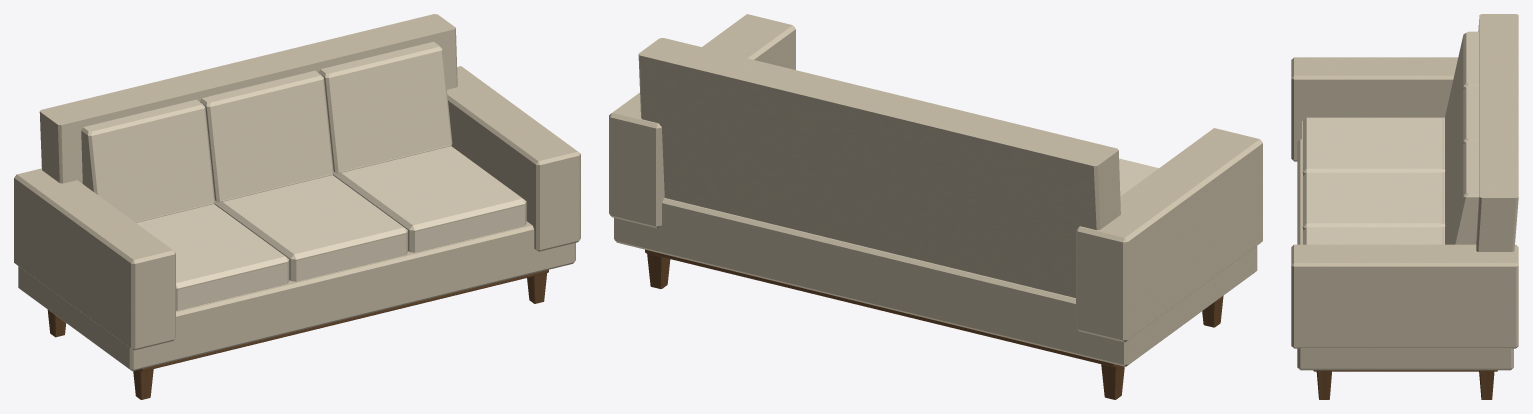
Rendered from sofa.glb.
3 renders of one model, left to right at view 1: azimuth 30°, elevation 25°; view 2: azimuth 150°, elevation 25°; view 3: azimuth 270°, elevation 25°, orthographic. The views are drawn at different scales.
Parts seen in each view (by area): view 1: home_sofa; view 2: home_sofa; view 3: home_sofa.
Boxes of the visible parts, x1,y1,x2,y2 form: home_sofa: (14, 14, 580, 399); home_sofa: (609, 14, 1262, 399); home_sofa: (1291, 14, 1518, 399).
Size of the model in its own units: 2 by 0.9 by 0.925.
Materials: 1 (1 with a texture image).
